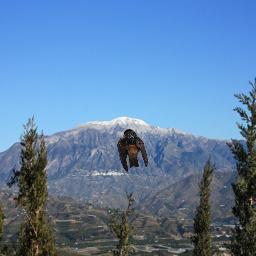Swallow: (117, 129, 148, 172)
